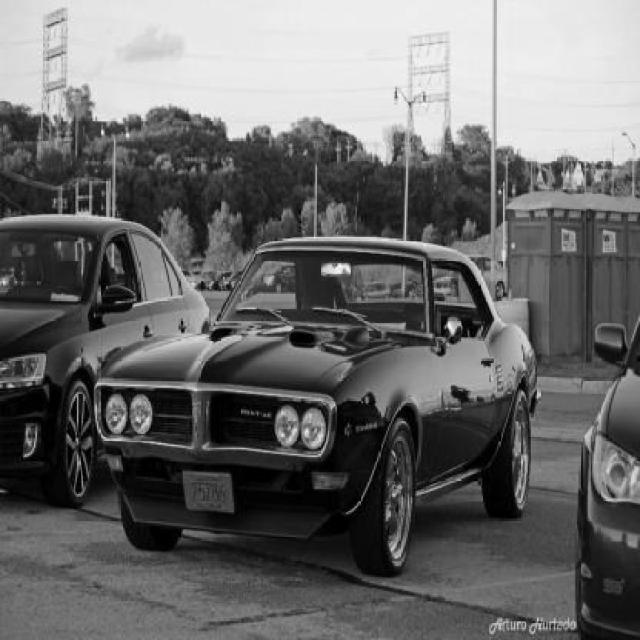car: (98, 237, 537, 598), (0, 221, 214, 517), (578, 292, 640, 630)
license-plate: (183, 475, 235, 514)
